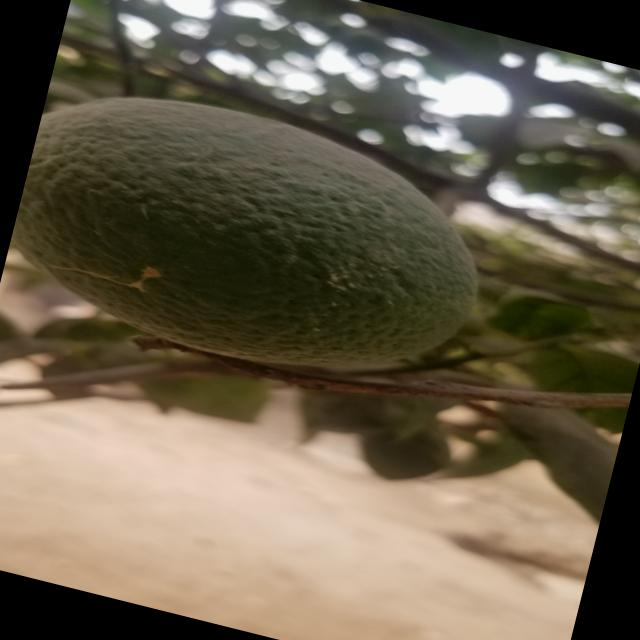Unripe: (4, 67, 510, 414)
